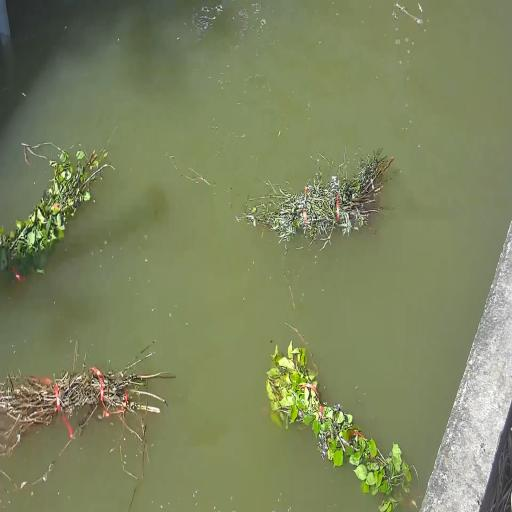twig: (262, 340, 413, 508), (3, 348, 168, 468), (0, 139, 117, 279), (244, 154, 392, 243)
